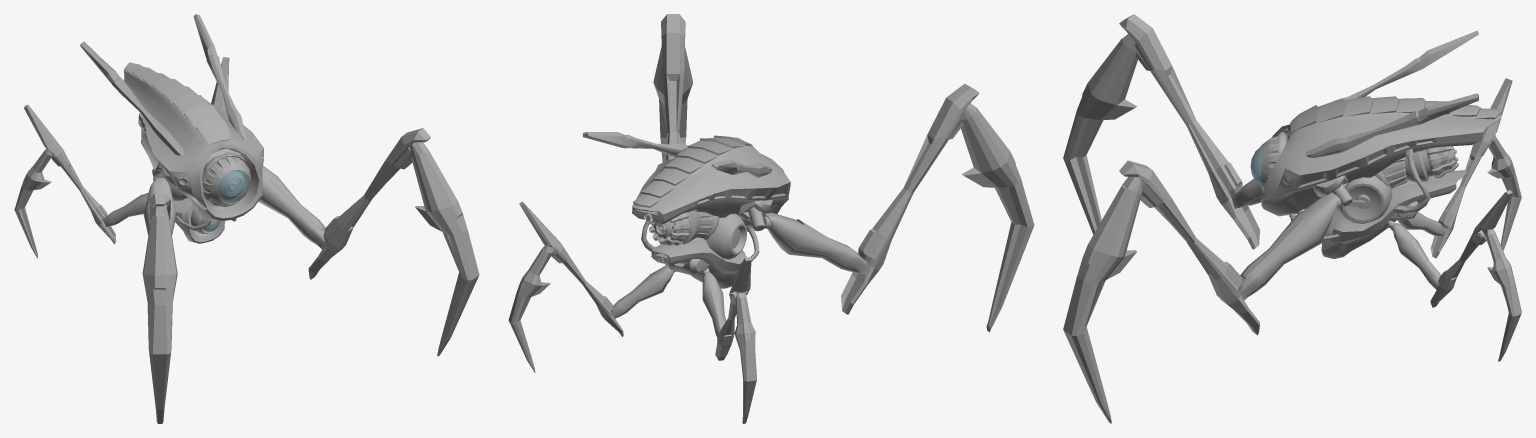
Rendered from boss_TEST.fbx.
3 renders of one model, left to right at view 1: azimuth 30°, elevation 25°; view 2: azimuth 150°, elevation 25°; view 3: azimuth 270°, elevation 25°, orthographic. The views are drawn at different scales.
Parts seen in each view (by area): view 1: pasted__polySurface143; view 2: pasted__polySurface143; view 3: pasted__polySurface143.
Boxes of the visible parts, box(x1,y1,x2,y2) form: pasted__polySurface143: box(14, 14, 479, 423); pasted__polySurface143: box(508, 14, 1034, 423); pasted__polySurface143: box(1063, 14, 1521, 423).
Bounding box in the file's own units: 33.88 × 24.12 × 35.45.
